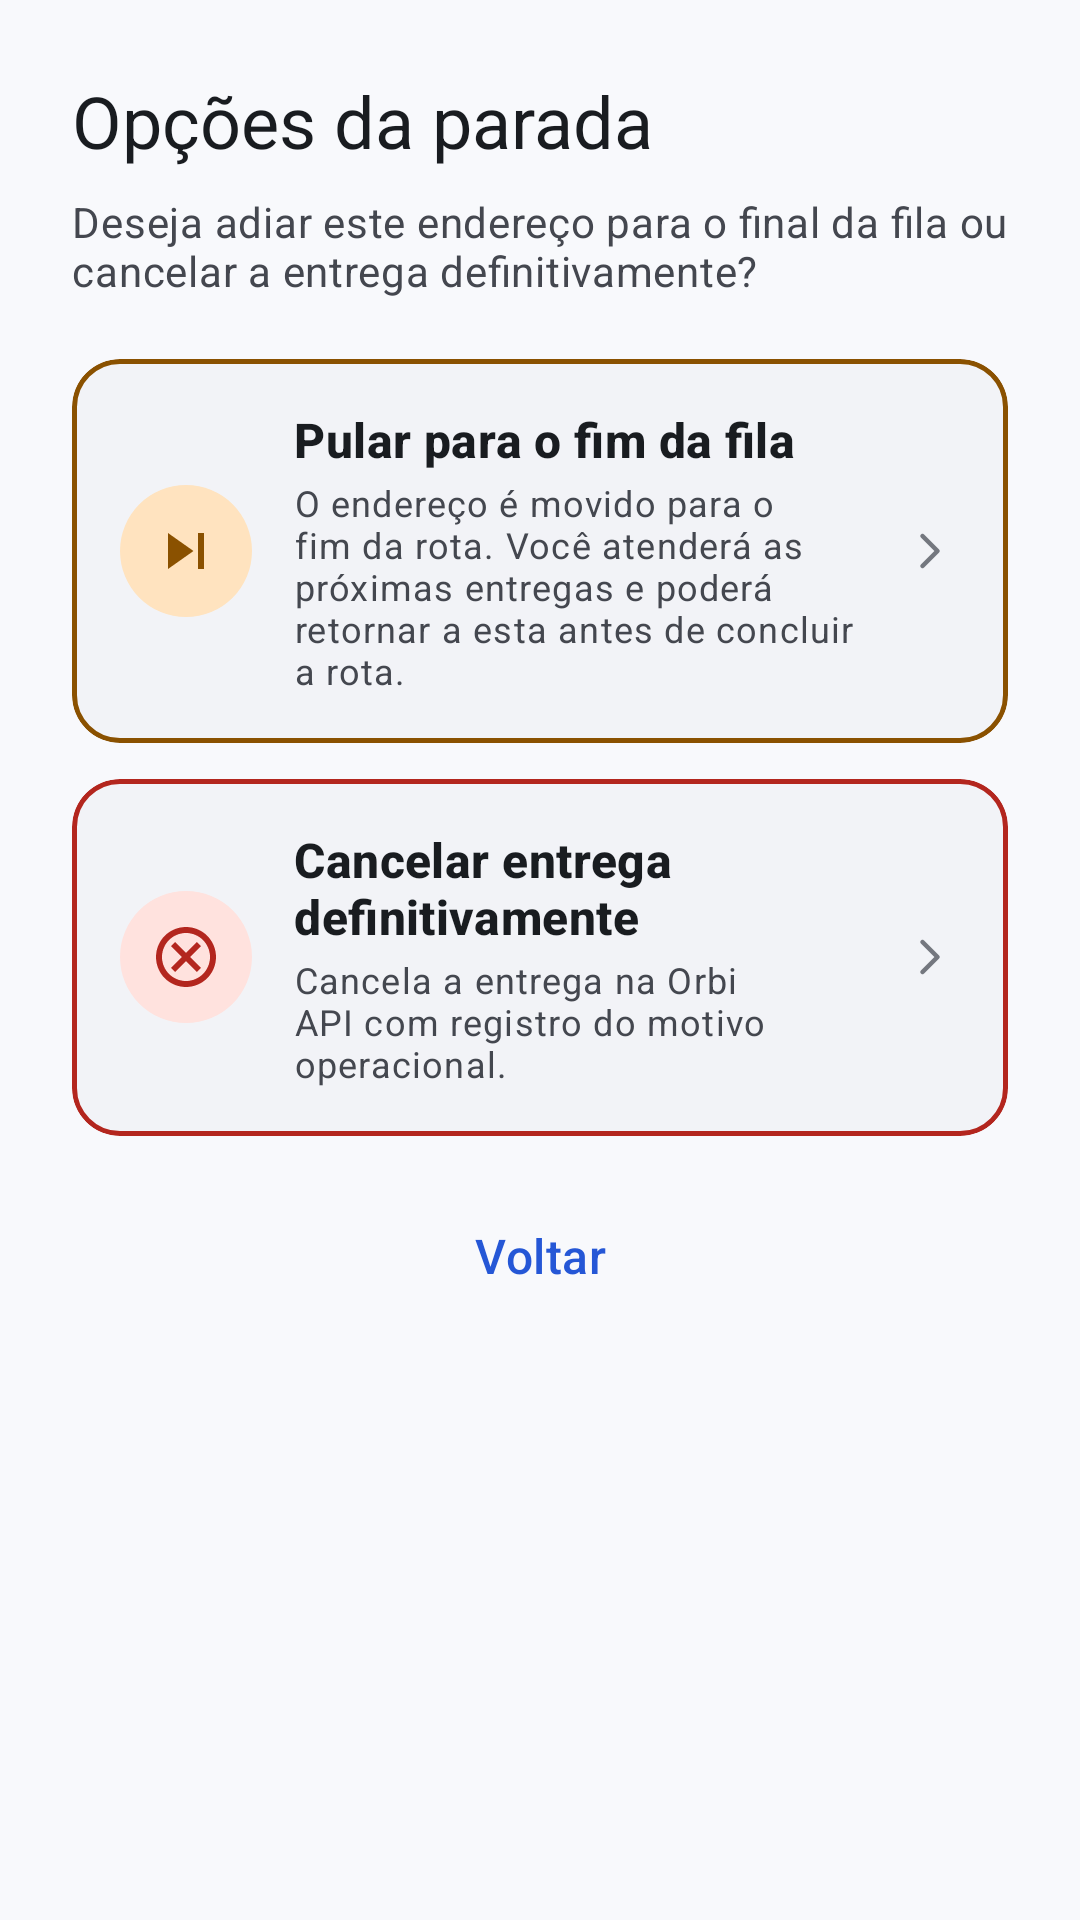

Point at icon controls on the screen. Image size 1080x1920, points as [x,y].
chevron right: [930,551], [930,957]
skip: [186,551]
